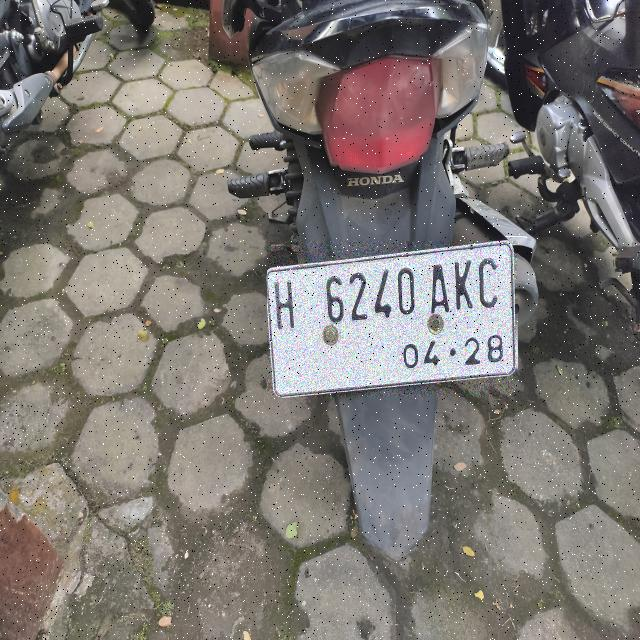plate: (267, 242, 515, 396)
